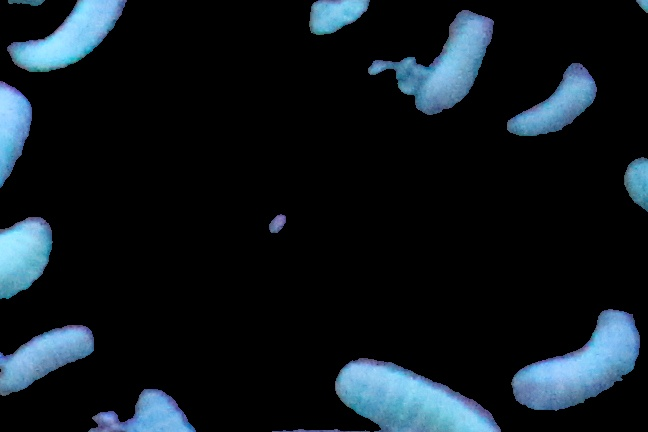larvae: (330, 356, 501, 432), (520, 312, 638, 408), (9, 1, 129, 71), (418, 11, 492, 115), (1, 327, 98, 391), (509, 66, 594, 136), (1, 215, 60, 302), (1, 79, 31, 207)
